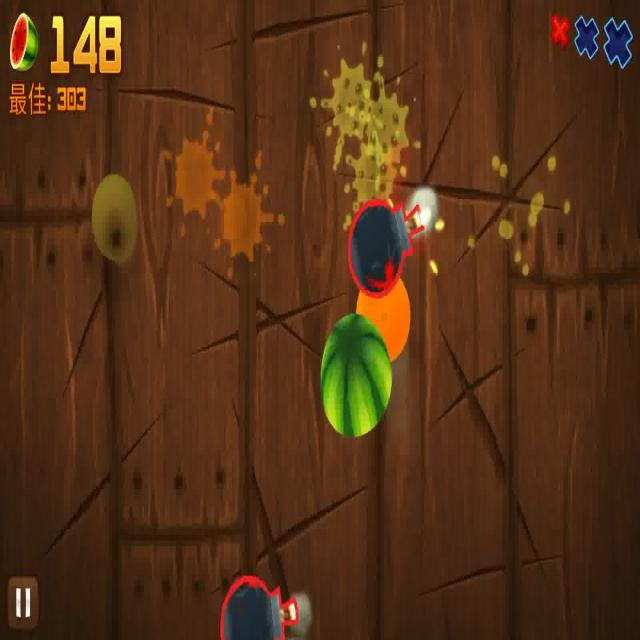bomb: (348, 197, 429, 294), (218, 574, 301, 640)
fruit: (321, 314, 392, 434), (353, 277, 411, 356), (93, 168, 136, 266)
